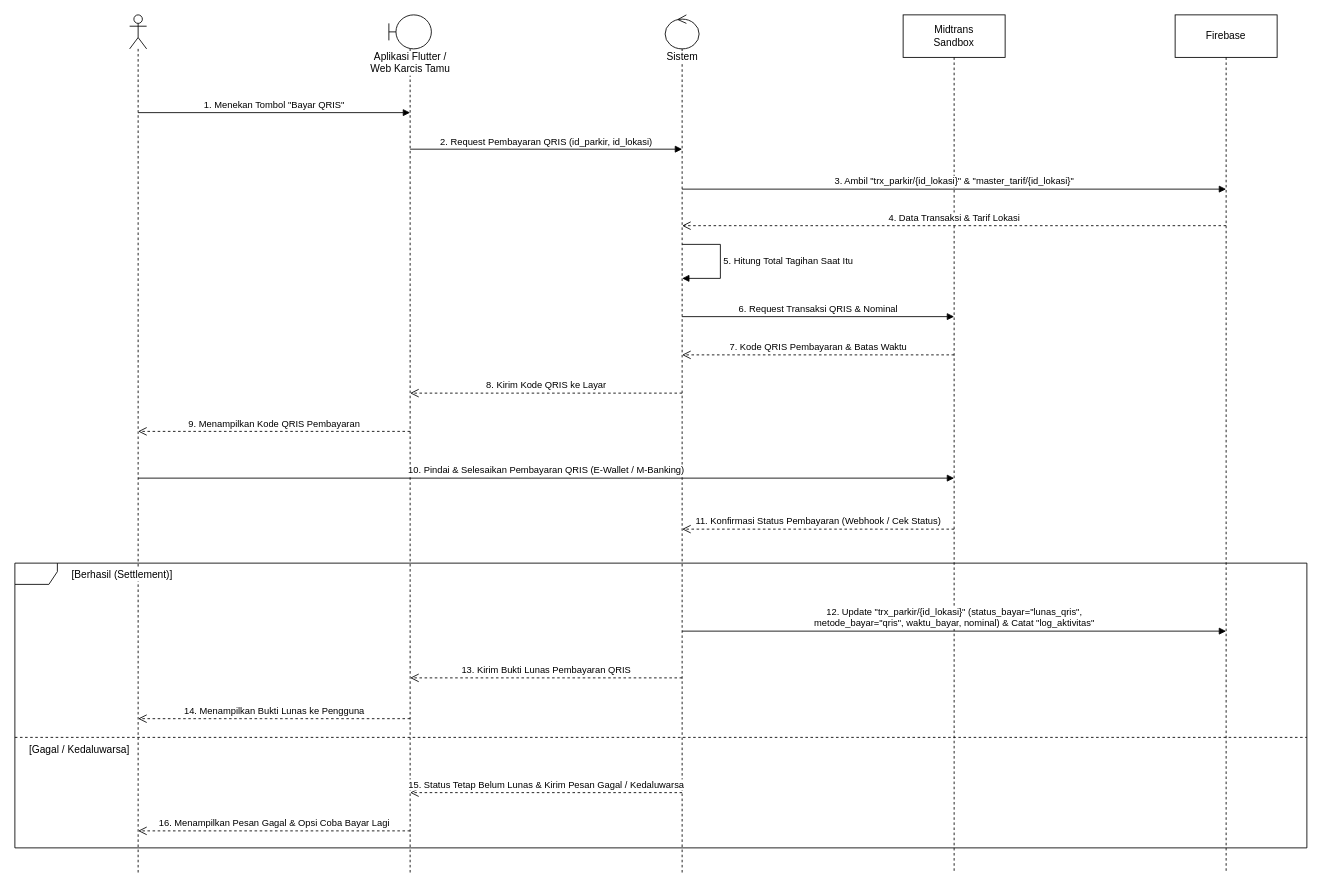
Some shapes in this 1323 by 888 pixel diagram are drawn without their labels. Each missing label, with the box of its shape:
alt: (14, 562, 1307, 848)
Member / Guest: (129, 14, 147, 873)
